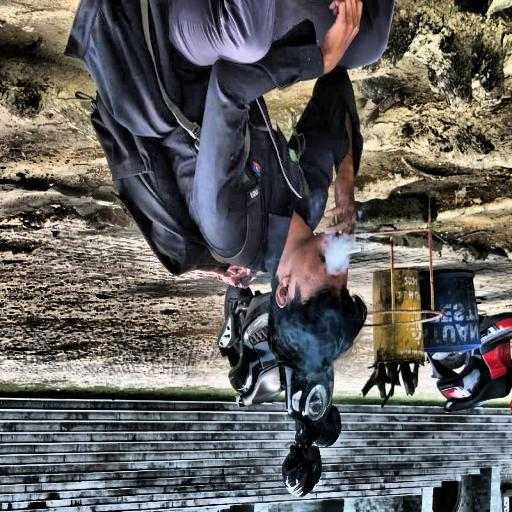Rokok: (273, 158, 355, 308)
